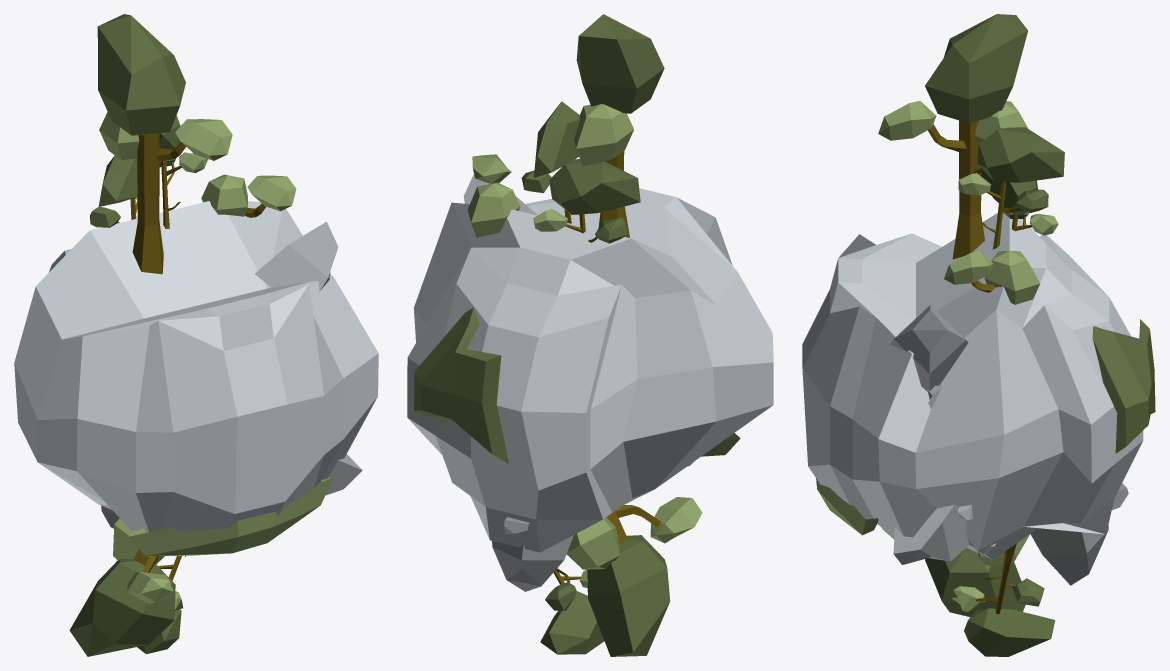
The model's file is Planettest_03.fbx.
3 renders of one model, left to right at view 1: azimuth 30°, elevation 25°; view 2: azimuth 150°, elevation 25°; view 3: azimuth 270°, elevation 25°, orthographic.
Parts seen in each view (by area): view 1: pCylinder37; view 2: pCylinder37; view 3: pCylinder37.
Boxes of the visible parts, x1,y1,x2,y2 form: pCylinder37: [14, 14, 378, 656]; pCylinder37: [407, 14, 773, 656]; pCylinder37: [802, 14, 1155, 656].
Size of the model in its own units: 194 by 360 by 182.
